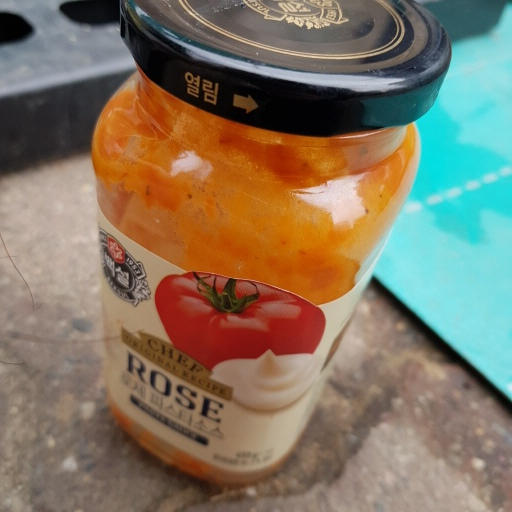Glass_5: (87, 2, 451, 485)
